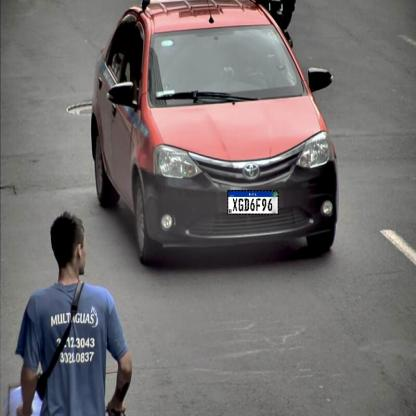PlacaM: (227, 190, 279, 215)
